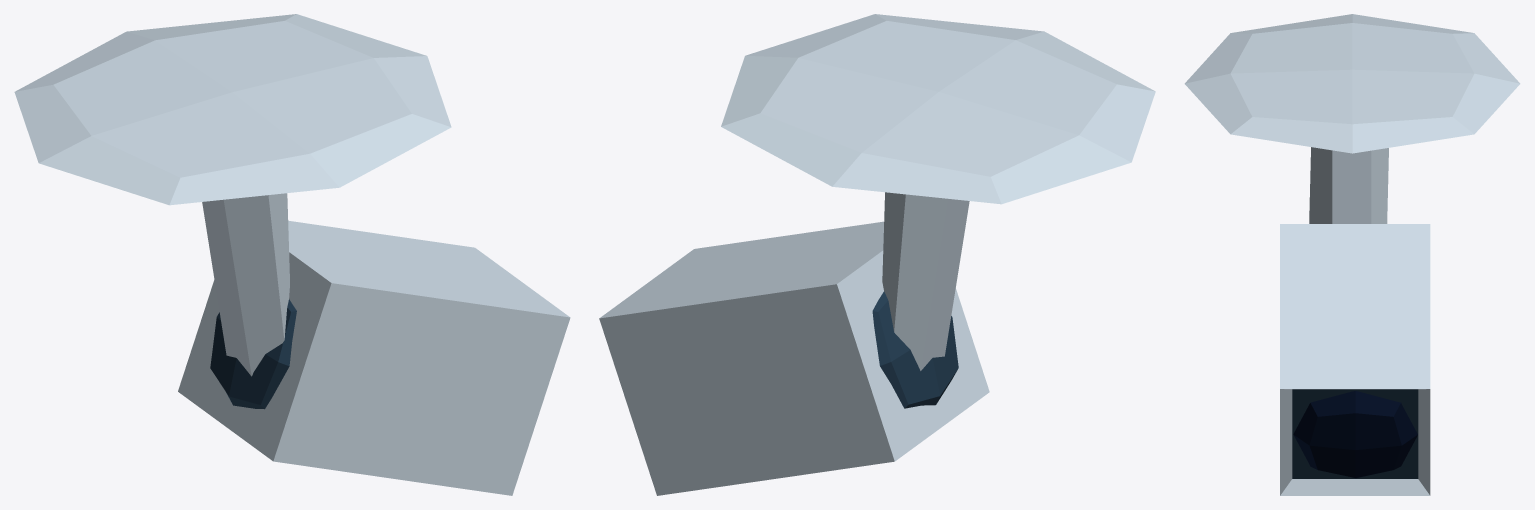
The model's file is kamera.fbx.
The picture shows the model from 3 angles, left to right: view 1: azimuth 30°, elevation 25°; view 2: azimuth 150°, elevation 25°; view 3: azimuth 270°, elevation 25°; orthographic projection. The views are drawn at different scales.
Visible parts, largest first — view 1: Cube, Cube.003, Cylinder, Cube.002; view 2: Cube, Cube.003, Cylinder, Cube.002; view 3: Cube.003, Cube, Cube.001, Cylinder.
Boxes of the visible parts, x1,y1,x2,y2 form: Cube: (178,220,570,495); Cube.003: (14,14,451,205); Cylinder: (202,193,289,376); Cube.002: (210,299,296,409); Cube: (599,221,989,495); Cube.003: (721,14,1155,204); Cylinder: (882,192,969,370); Cube.002: (872,291,958,408); Cube.003: (1184,14,1520,153); Cube: (1280,224,1430,495); Cube.001: (1293,391,1417,478); Cylinder: (1309,147,1388,223).
Bounding box in the file's own units: 67.16 × 56.41 × 51.07.
